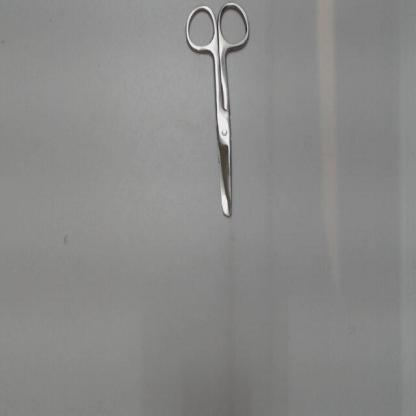Dressing Scissors: (178, 1, 257, 228)
